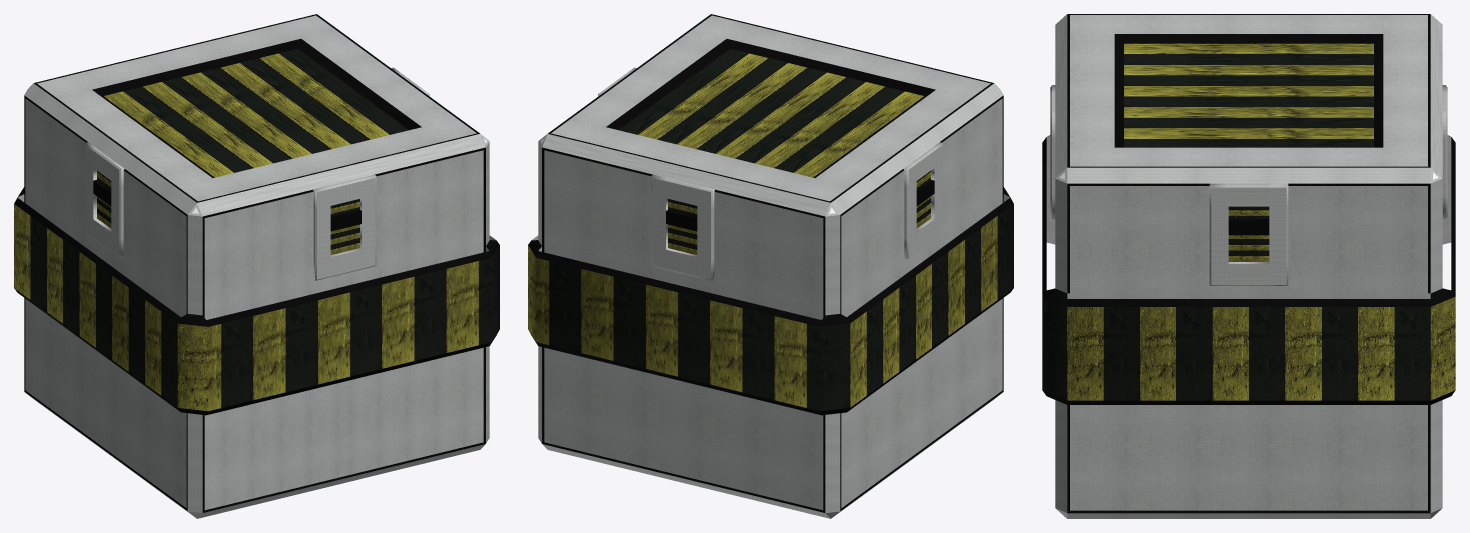
File: boxfcv1.fbx
The picture shows the model from 3 angles, left to right: view 1: azimuth 30°, elevation 25°; view 2: azimuth 150°, elevation 25°; view 3: azimuth 270°, elevation 25°; orthographic projection. The views are drawn at different scales.
Visible parts, largest first — view 1: Cube; view 2: Cube; view 3: Cube.
Part boxes in pixels (x1,y1,x2,y2): Cube: (14, 14, 499, 518); Cube: (528, 14, 1013, 518); Cube: (1042, 14, 1455, 518).
Bounding box in the file's own units: 107 × 99.94 × 107.
4 materials, 4 textured.
